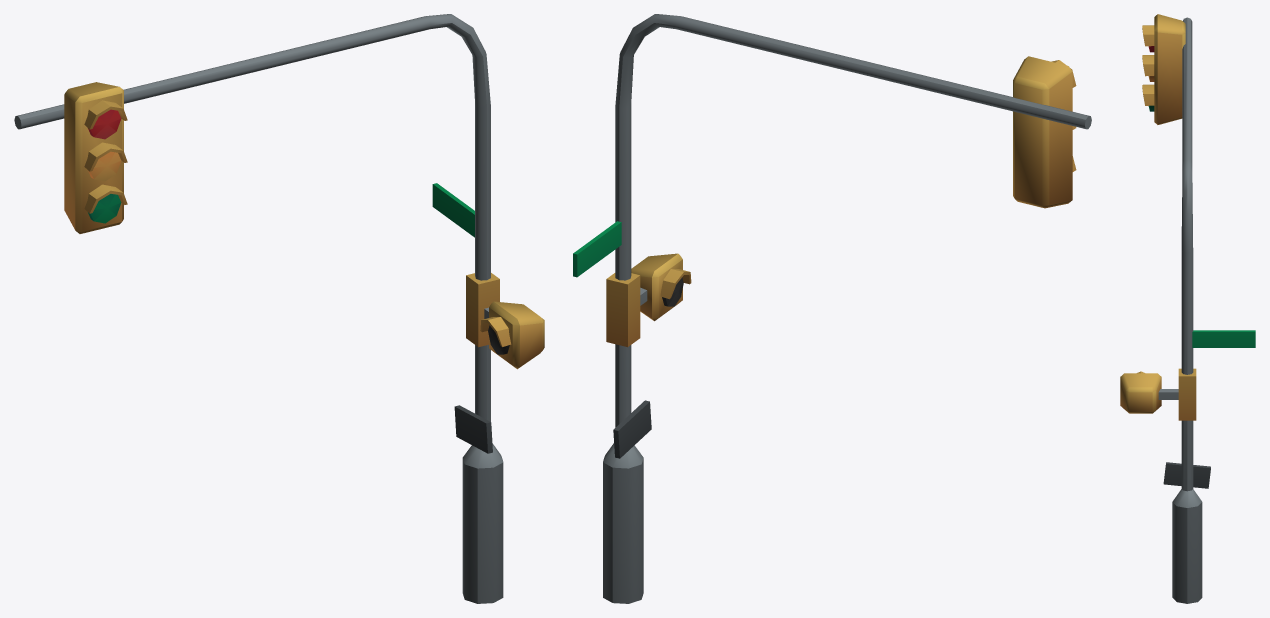
Rendered from city-trafficlight-c.glb.
3 renders of one model, left to right at view 1: azimuth 30°, elevation 25°; view 2: azimuth 150°, elevation 25°; view 3: azimuth 270°, elevation 25°, orthographic. The views are drawn at different scales.
Visible parts, largest first — view 1: trafficlight_C; view 2: trafficlight_C; view 3: trafficlight_C.
Boxes of the visible parts, x1,y1,x2,y2 form: trafficlight_C: (14, 14, 544, 603); trafficlight_C: (573, 14, 1091, 603); trafficlight_C: (1120, 14, 1255, 603).
Bounding box in the file's own units: 0.7977 × 0.9695 × 0.2716.
